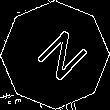N_SW: (23, 23, 87, 87)
